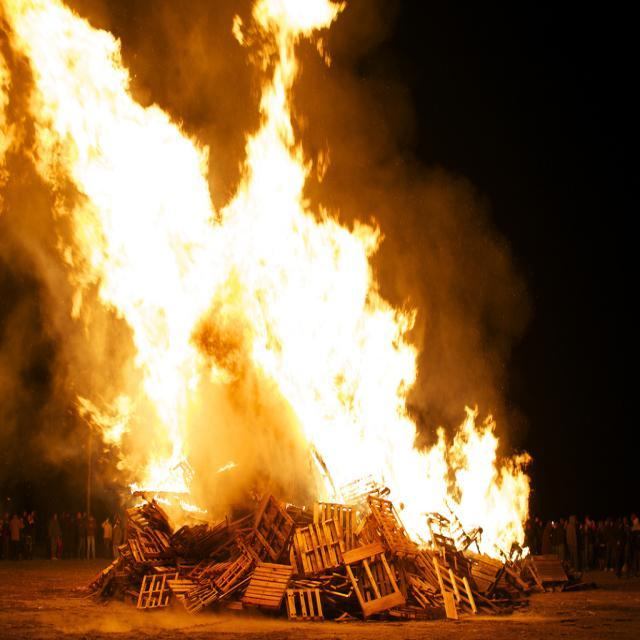Fire: (0, 0, 434, 552), (392, 397, 532, 565)
